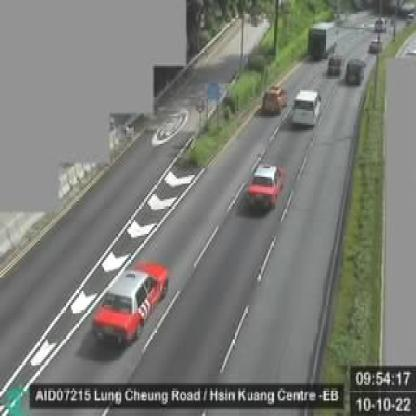Car: (90, 264, 169, 344), (246, 164, 284, 209), (291, 88, 321, 127), (262, 83, 284, 114), (346, 60, 365, 87), (328, 56, 343, 78), (370, 38, 381, 52)
Truck: (308, 19, 336, 60)
